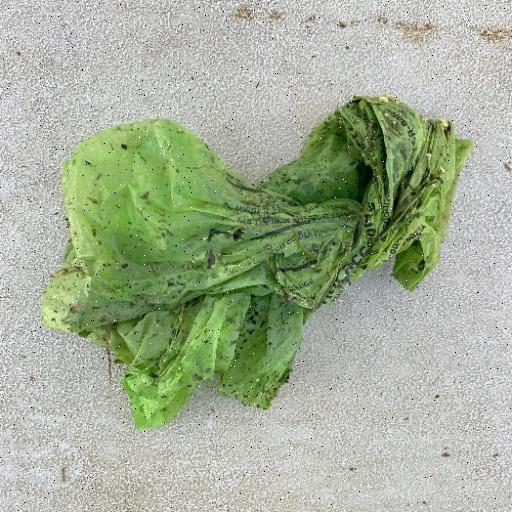Waste: (39, 92, 474, 432)
